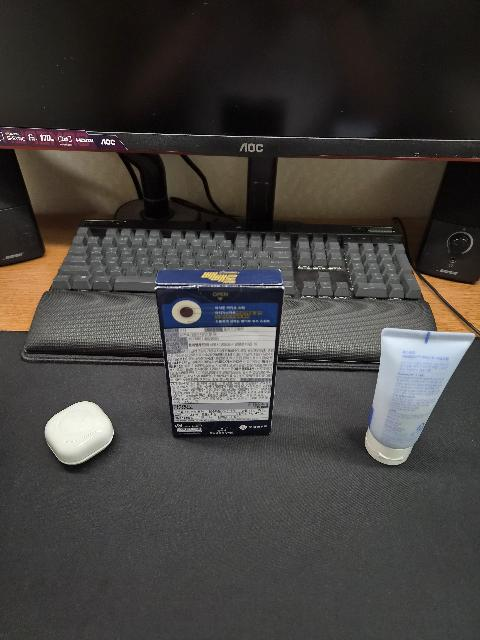earphone_case: (44, 401, 114, 465)
handcream: (364, 328, 475, 465)
pepero: (154, 269, 285, 438)
